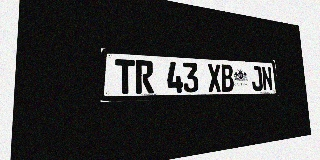3: (183, 62, 199, 93)
4: (167, 61, 183, 93)
B: (220, 64, 234, 92)
J: (251, 66, 263, 91)
N: (261, 66, 273, 91)
R: (135, 60, 154, 94)
T: (115, 59, 135, 94)
X: (207, 64, 222, 92)
